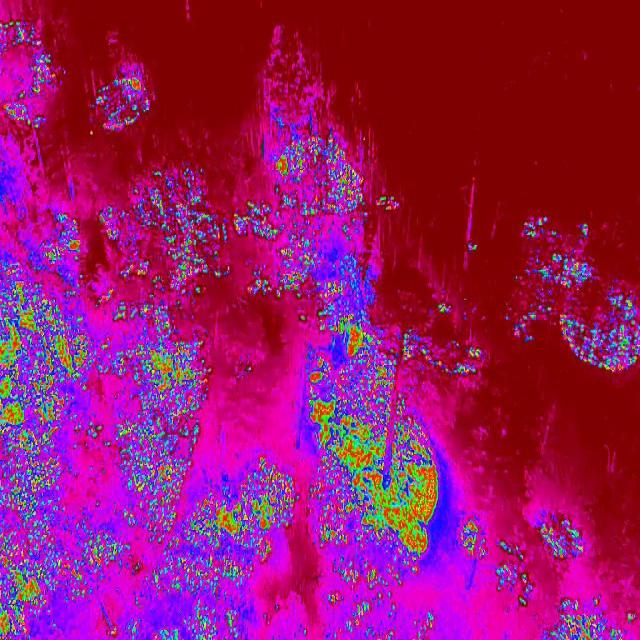fire: (0, 154, 217, 640), (302, 339, 439, 640), (237, 106, 397, 339), (517, 216, 640, 372), (217, 451, 296, 640), (0, 11, 68, 130), (461, 503, 534, 612), (540, 590, 638, 640), (430, 301, 489, 377), (88, 71, 158, 128), (536, 511, 588, 560)
